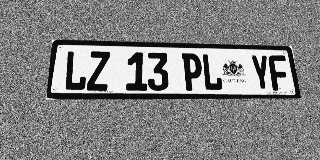1: (126, 52, 147, 91)
3: (148, 52, 169, 91)
F: (268, 55, 291, 91)
L: (63, 51, 88, 91), (201, 54, 223, 91)
P: (182, 53, 203, 91)
Y: (250, 55, 272, 91)
Z: (87, 51, 110, 91)
